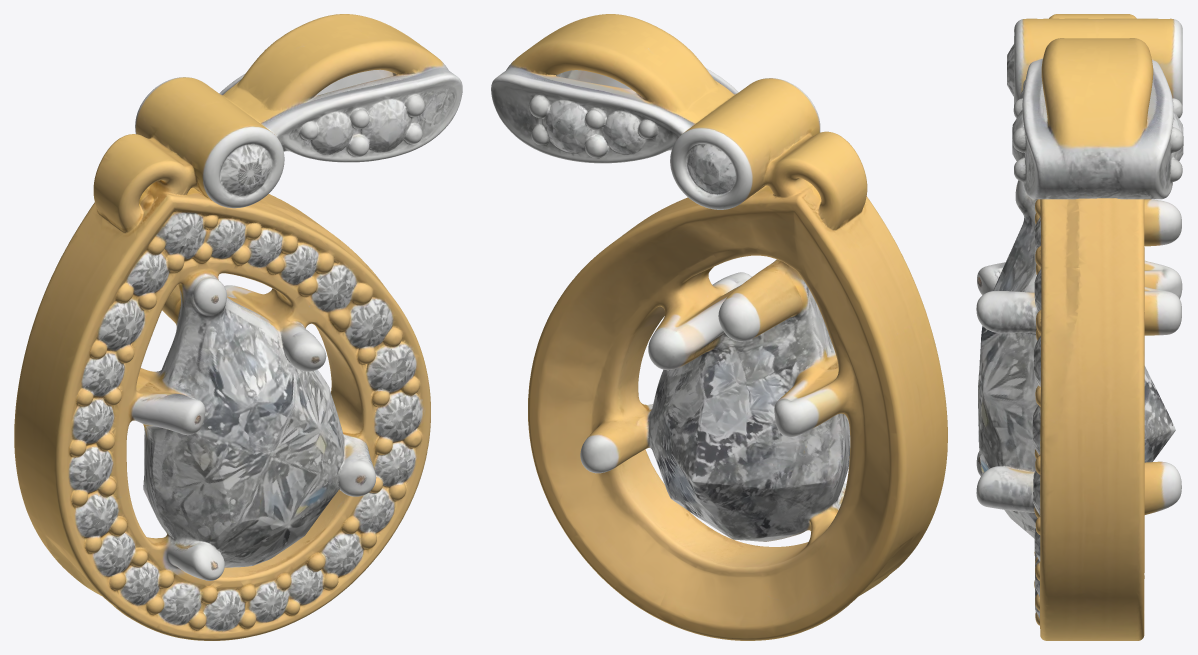
The model's file is pear-halo-pendant-opt.glb.
3 renders of one model, left to right at view 1: azimuth 30°, elevation 25°; view 2: azimuth 150°, elevation 25°; view 3: azimuth 270°, elevation 25°, orthographic. The views are drawn at different scales.
Parts seen in each view (by area): view 1: mesh_node; view 2: mesh_node; view 3: mesh_node.
Boxes of the visible parts, x1,y1,x2,y2 form: mesh_node: (14,14,462,640); mesh_node: (491,14,947,640); mesh_node: (976,14,1183,640).
Bounding box in the file's own units: 1.44 × 1.9 × 0.5681.
1 material, 1 textured.
